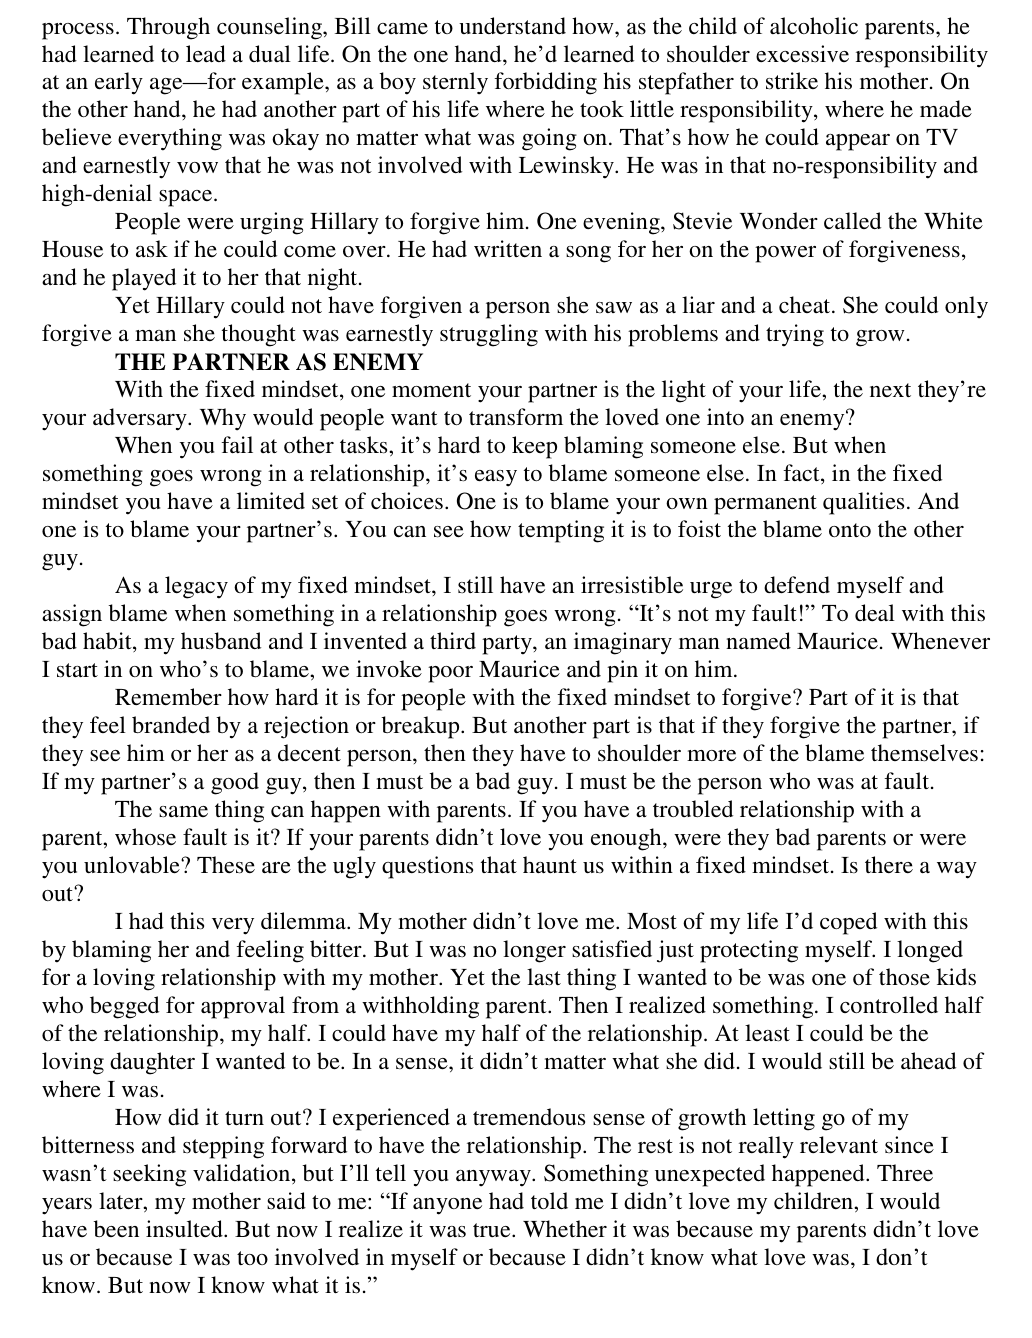latin: (36, 568, 999, 912), (34, 1095, 982, 1304), (38, 16, 986, 207), (39, 378, 991, 568), (31, 911, 992, 1095), (37, 207, 997, 351), (113, 350, 428, 376)
